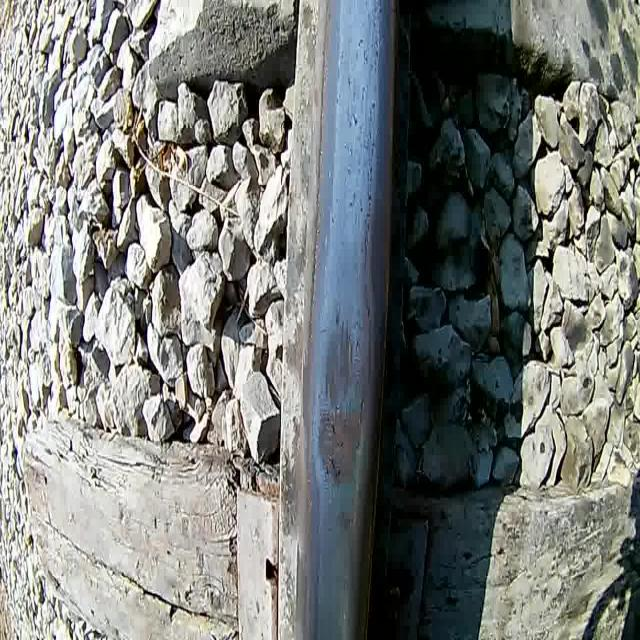Spallings: (323, 419, 347, 484)
Squats: (313, 397, 368, 493), (319, 299, 361, 412), (330, 501, 364, 541)
